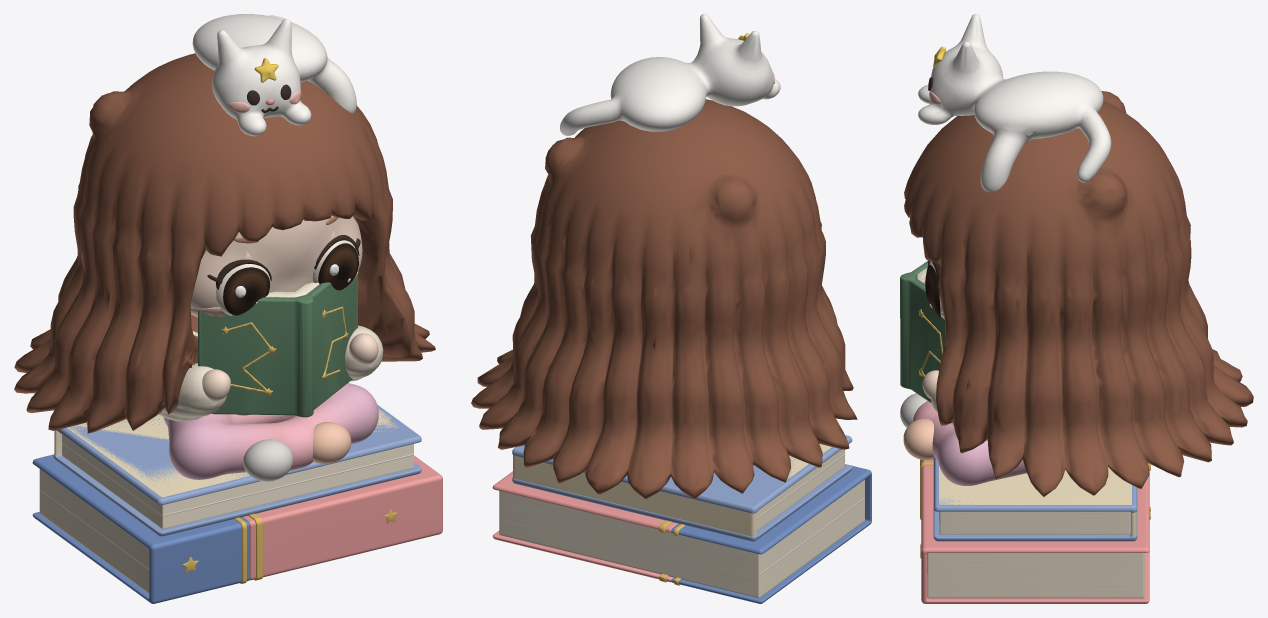
File: page_turner_roblox.glb
3 renders of one model, left to right at view 1: azimuth 30°, elevation 25°; view 2: azimuth 150°, elevation 25°; view 3: azimuth 270°, elevation 25°, orthographic. The views are drawn at different scales.
Parts seen in each view (by area): view 1: PageTurner_Hair, PageTurner_BookCover, PageTurner_BottomBookPink, PageTurner_Cat, PageTurner_TopBookEdge, PageTurner_BottomBookBlue, PageTurner_Pants, PageTurner_TopBookPages, PageTurner_Head, PageTurner_BottomBookPages, PageTurner_TopBook, PageTurner_Iris (+8 smaller); view 2: PageTurner_Hair, PageTurner_BottomBookPages, PageTurner_Cat, PageTurner_TopBookEdge, PageTurner_TopBook, PageTurner_BottomBookBlue, PageTurner_BottomBookPink, PageTurner_TopBookPages; view 3: PageTurner_Hair, PageTurner_Cat, PageTurner_BottomBookPages, PageTurner_BottomBookPink, PageTurner_TopBookPages, PageTurner_TopBook, PageTurner_BookCover, PageTurner_TopBookEdge, PageTurner_Pants, PageTurner_SockLeft, PageTurner_Iris, PageTurner_SockRight.
Part boxes in pixels (x1,y1,x2,y2): PageTurner_Hair: [14, 53, 435, 433]; PageTurner_BookCover: [198, 274, 357, 417]; PageTurner_BottomBookPink: [242, 455, 442, 580]; PageTurner_Cat: [192, 14, 356, 136]; PageTurner_TopBookEdge: [53, 405, 421, 536]; PageTurner_BottomBookBlue: [32, 454, 249, 603]; PageTurner_Pants: [163, 383, 378, 479]; PageTurner_TopBookPages: [62, 434, 413, 529]; PageTurner_Head: [190, 215, 362, 308]; PageTurner_BottomBookPages: [39, 469, 149, 593]; PageTurner_TopBook: [54, 408, 399, 497]; PageTurner_Iris: [223, 243, 358, 315]; PageTurner_Hair: [471, 99, 857, 499]; PageTurner_BottomBookPages: [499, 479, 864, 598]; PageTurner_Cat: [560, 14, 780, 135]; PageTurner_TopBookEdge: [512, 435, 852, 541]; PageTurner_TopBook: [513, 444, 831, 536]; PageTurner_BottomBookBlue: [671, 465, 871, 603]; PageTurner_BottomBookPink: [492, 471, 677, 582]; PageTurner_TopBookPages: [756, 449, 845, 531]; PageTurner_Hair: [904, 91, 1253, 496]; PageTurner_Cat: [918, 14, 1111, 192]; PageTurner_BottomBookPages: [927, 553, 1144, 598]; PageTurner_BottomBookPink: [921, 460, 1149, 603]; PageTurner_TopBookPages: [939, 511, 1130, 534]; PageTurner_TopBook: [939, 465, 1136, 536]; PageTurner_BookCover: [900, 261, 945, 402]; PageTurner_TopBookEdge: [933, 457, 1137, 541]; PageTurner_Pants: [912, 401, 1026, 485]; PageTurner_SockLeft: [903, 418, 934, 459]; PageTurner_Iris: [925, 265, 940, 316]; PageTurner_SockRight: [900, 393, 927, 427].
Size of the model in its own units: 2.55 by 3.4 by 2.17.
27 materials, 27 textured.
